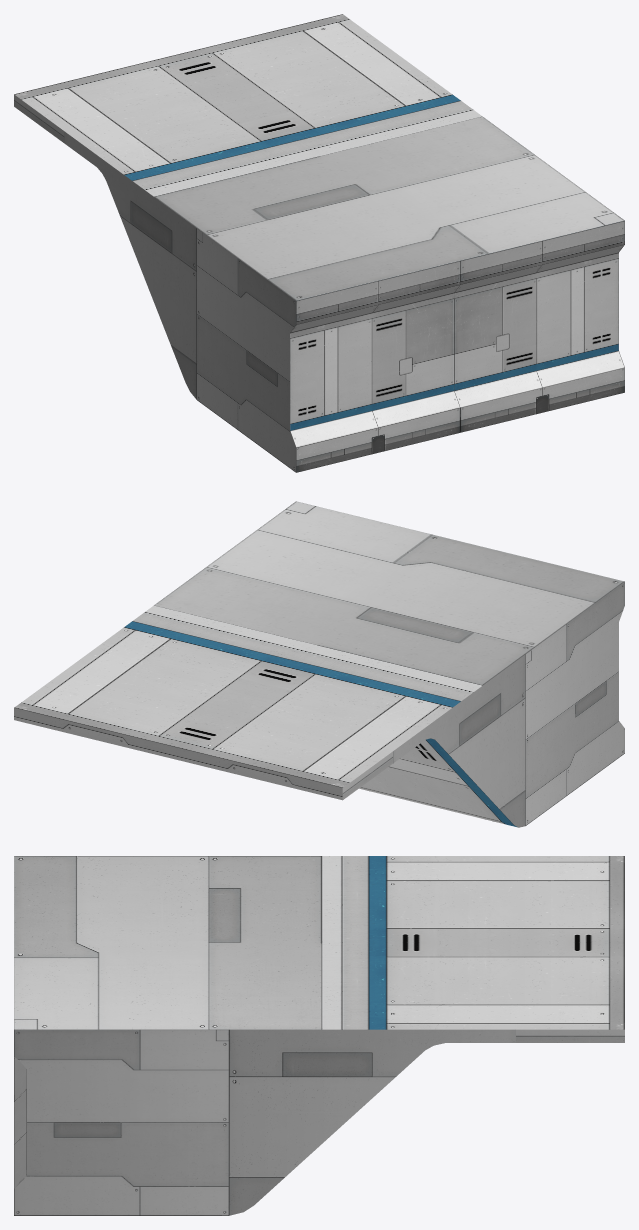
File: Ext_Plateform_Long_01.FBX
The picture shows the model from 3 angles, top to bottom: view 1: azimuth 30°, elevation 25°; view 2: azimuth 150°, elevation 25°; view 3: azimuth 270°, elevation 25°; orthographic projection. The views are drawn at different scales.
Visible parts, largest first — view 1: Ext_Plateform_Long_01; view 2: Ext_Plateform_Long_01; view 3: Ext_Plateform_Long_01.
Boxes of the visible parts, x1,y1,x2,y2 form: Ext_Plateform_Long_01: (14, 14, 624, 472); Ext_Plateform_Long_01: (14, 501, 624, 827); Ext_Plateform_Long_01: (14, 856, 624, 1215).
Bounding box in the file's own units: 280 × 140 × 416.
